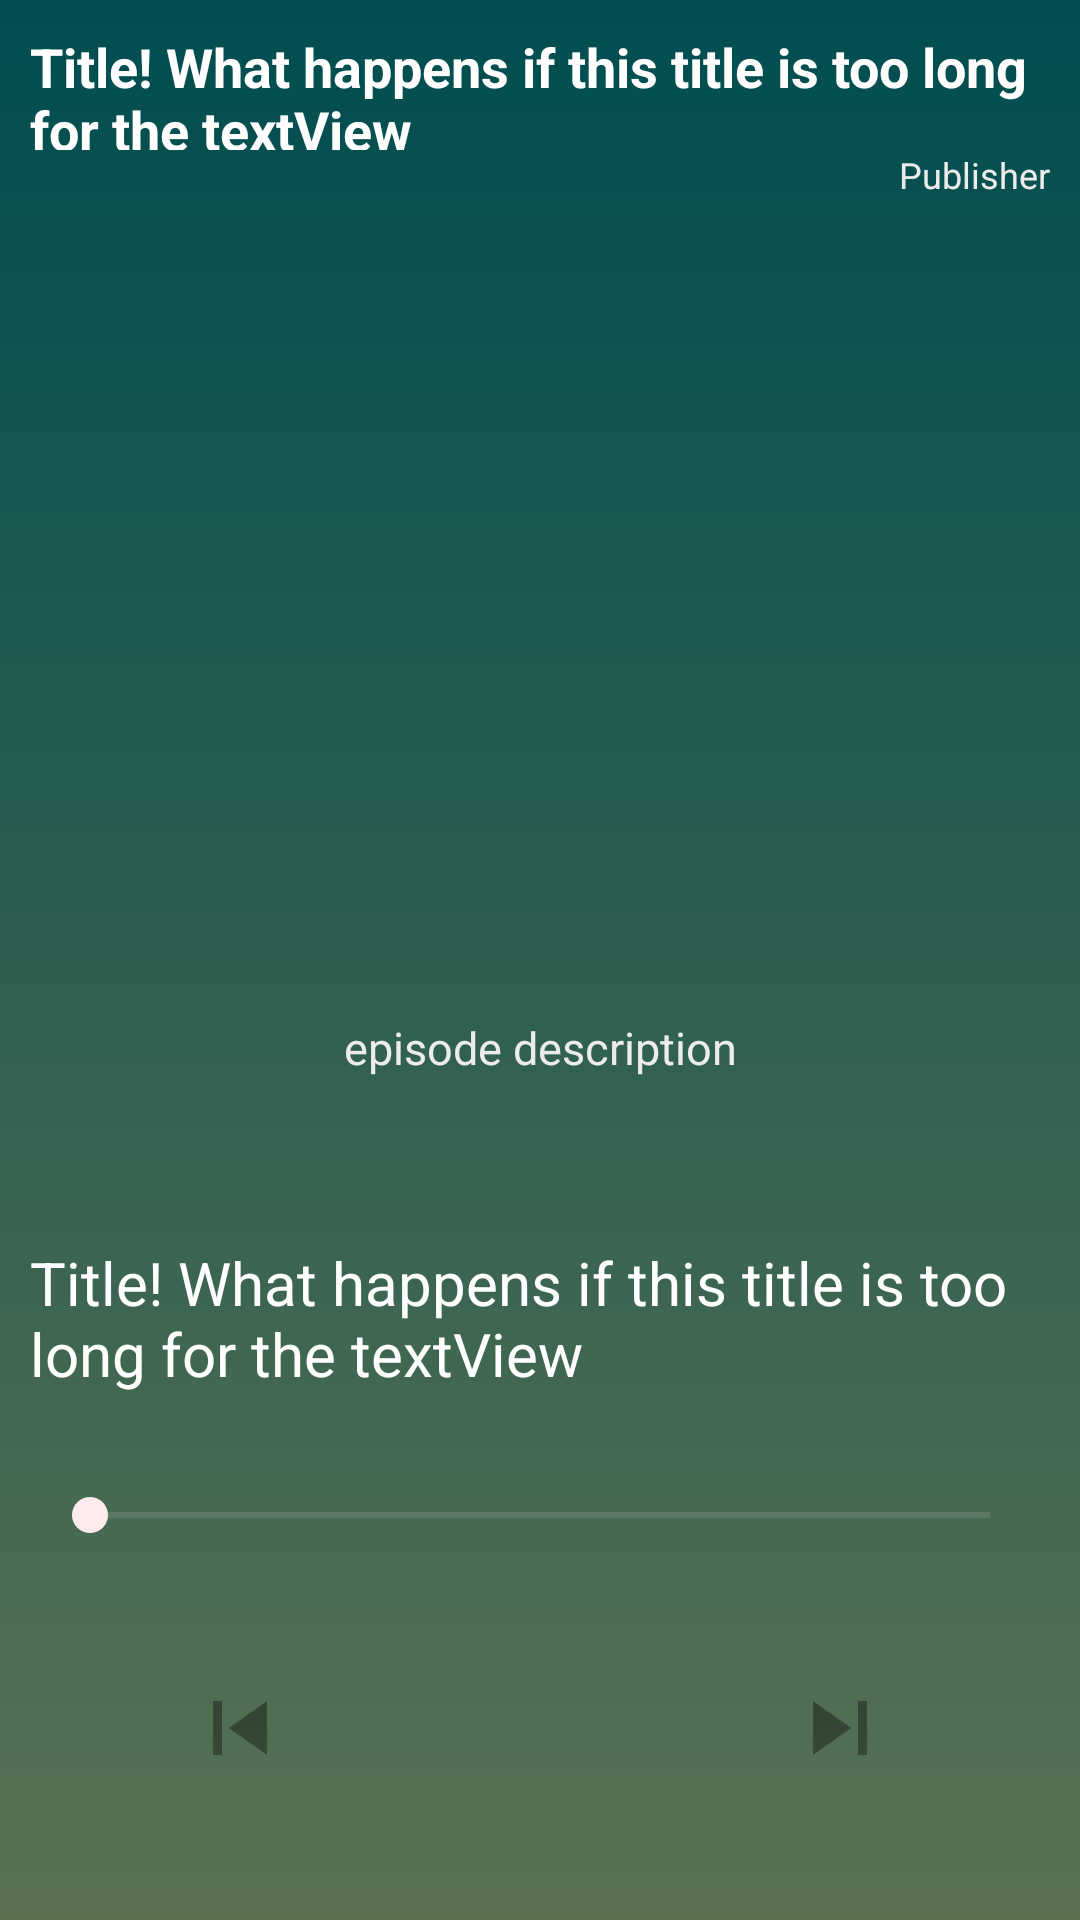

Icons on this 1080×1920 Android screen, each with its box as (x1, y1, x2, y2):
skip next: (813, 1701, 867, 1755)
skip previous: (213, 1701, 267, 1755)
